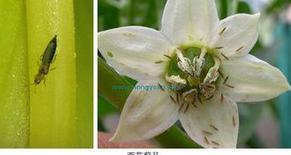tiny_pests: (22, 29, 76, 95), (215, 24, 230, 37), (207, 120, 221, 133), (228, 111, 239, 127), (233, 43, 246, 56), (167, 93, 178, 106), (218, 88, 226, 104), (153, 58, 165, 65)
